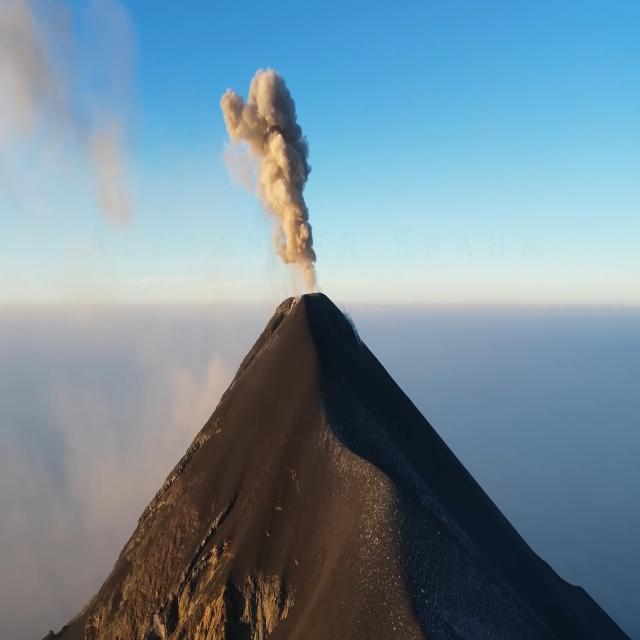Plume: (207, 44, 337, 293)
Summit: (252, 288, 370, 335)
